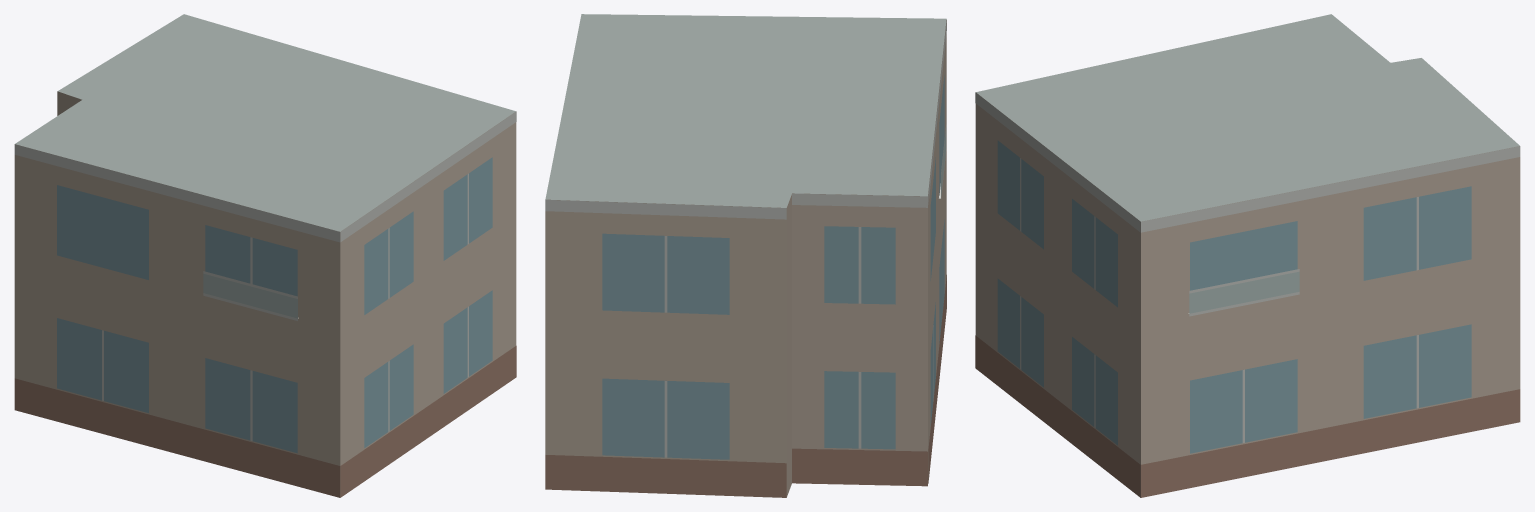
The model's file is survey-upis-32597226.glb.
The picture shows the model from 3 angles, left to right: view 1: azimuth 30°, elevation 25°; view 2: azimuth 150°, elevation 25°; view 3: azimuth 270°, elevation 25°; orthographic projection. The views are drawn at different scales.
Visible parts, largest first — view 1: survey-upis-32597226.tmp; view 2: survey-upis-32597226.tmp; view 3: survey-upis-32597226.tmp.
Part boxes in pixels (x1,y1,x2,y2): survey-upis-32597226.tmp: [14, 14, 516, 497]; survey-upis-32597226.tmp: [545, 14, 946, 497]; survey-upis-32597226.tmp: [975, 14, 1520, 497].
Size of the model in its own units: 9.85 by 6.1 by 10.91.
